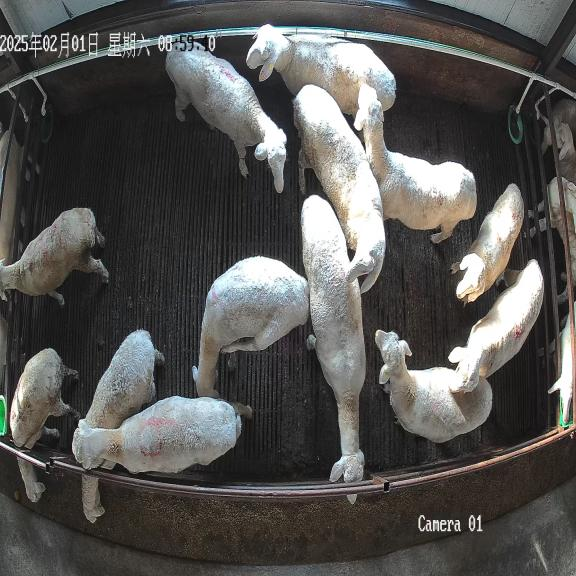eating: (72, 330, 164, 522), (9, 348, 80, 502)
stand: (301, 195, 372, 504), (354, 84, 477, 243), (293, 85, 385, 292), (165, 42, 286, 192), (193, 256, 309, 396), (246, 24, 396, 115), (72, 396, 241, 473), (376, 330, 492, 442), (448, 259, 544, 393), (0, 208, 108, 306), (451, 184, 524, 304)
